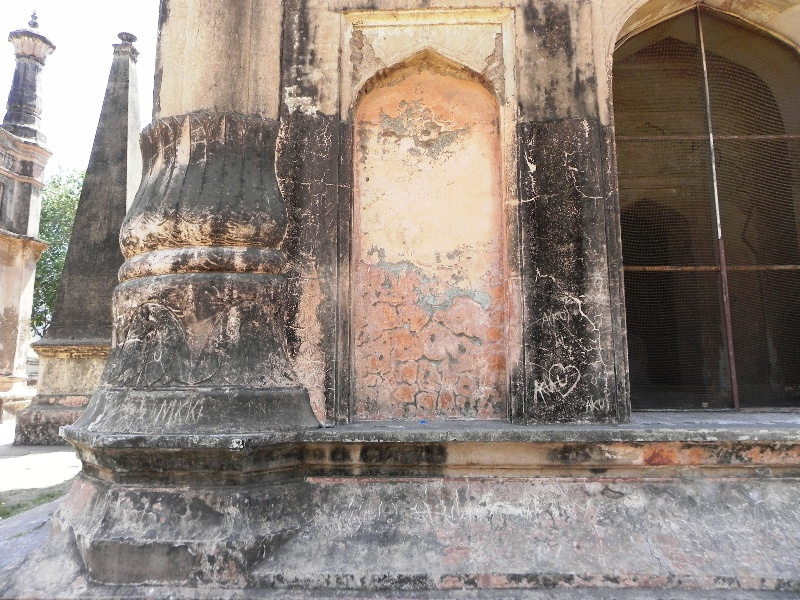Spalling: (474, 24, 513, 101), (343, 14, 368, 79)
